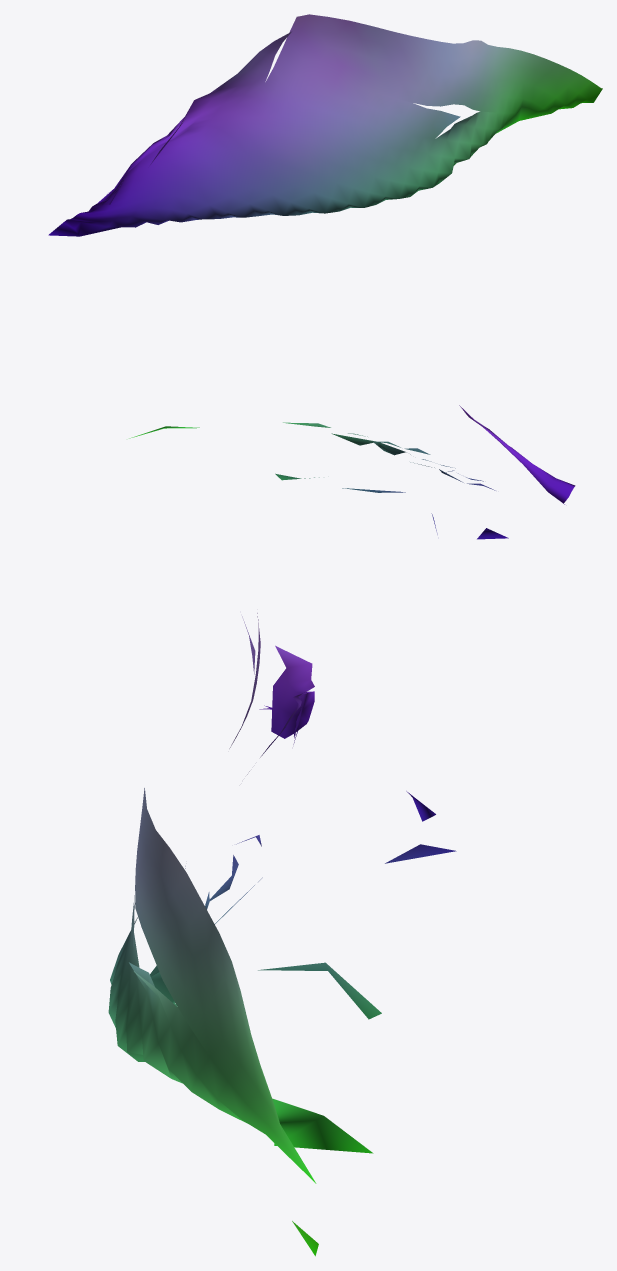
3 renders of one model, top to bottom at view 1: azimuth 30°, elevation 25°; view 2: azimuth 150°, elevation 25°; view 3: azimuth 270°, elevation 25°, orthographic. The views are drawn at different scales.
Visible parts, largest first — view 1: Fishing net_final.001; view 2: Fishing net_final.001; view 3: Fishing net_final.001.
Part boxes in pixels (x1,y1,x2,y2): Fishing net_final.001: (48,14,602,236); Fishing net_final.001: (129,405,575,539); Fishing net_final.001: (108,613,456,1256).
Size of the model in its own units: 6.04 by 1.89 by 1.9.
